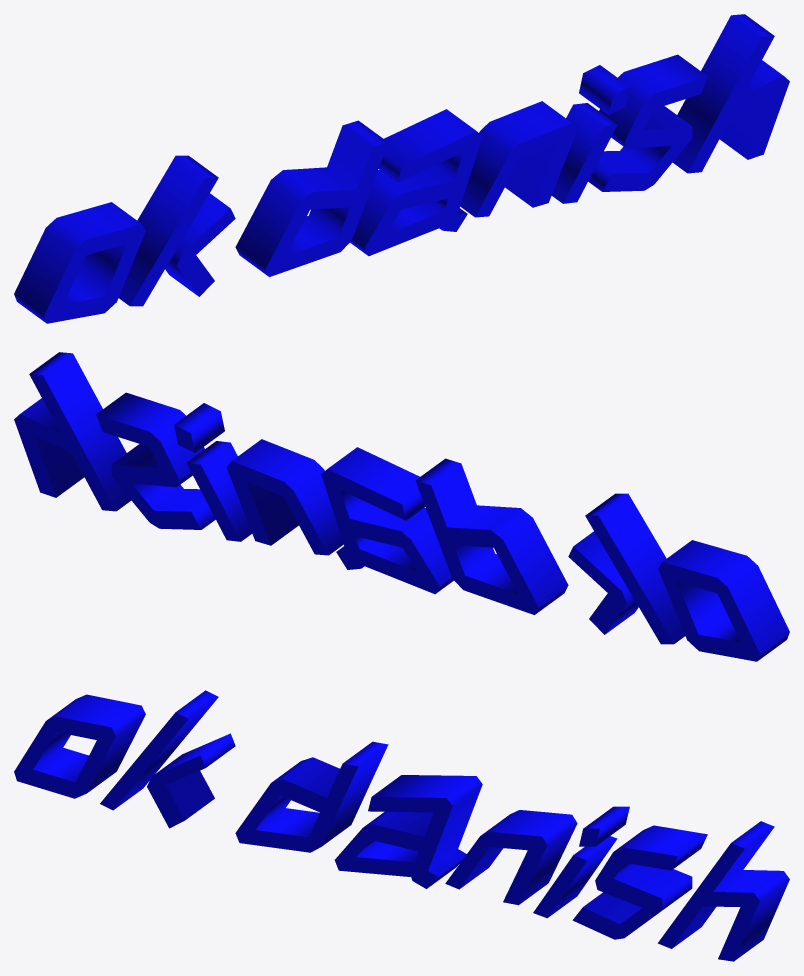
3 views of the same model, one above another, from view 1: azimuth 30°, elevation 25°; view 2: azimuth 150°, elevation 25°; view 3: azimuth 330°, elevation 25° (orthographic).
Parts seen in each view (by area): view 1: Text; view 2: Text; view 3: Text.
Boxes of the visible parts, left/top/right/bottom form: Text: left=14, top=14, right=789, bottom=323; Text: left=14, top=352, right=789, bottom=661; Text: left=14, top=690, right=789, bottom=961.
Size of the model in its own units: 6.46 by 1.04 by 0.45.
